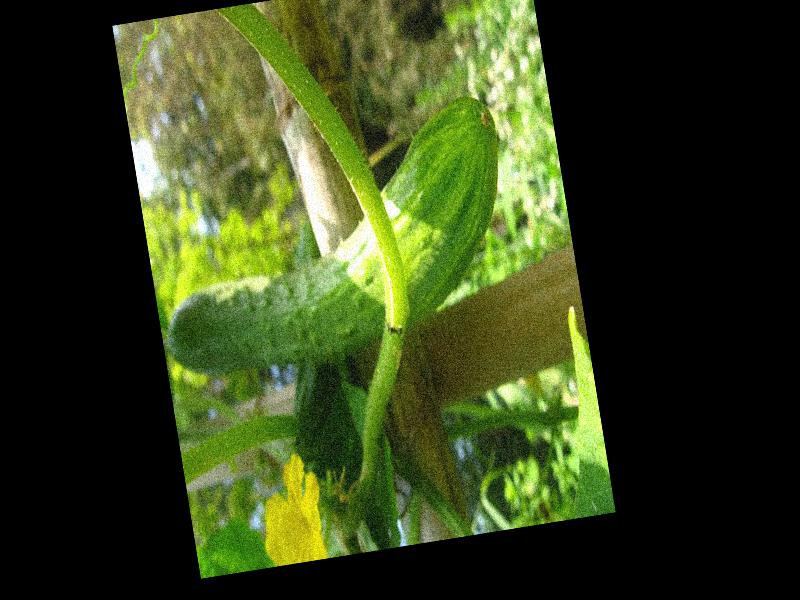Cucumber: (135, 95, 527, 383)
